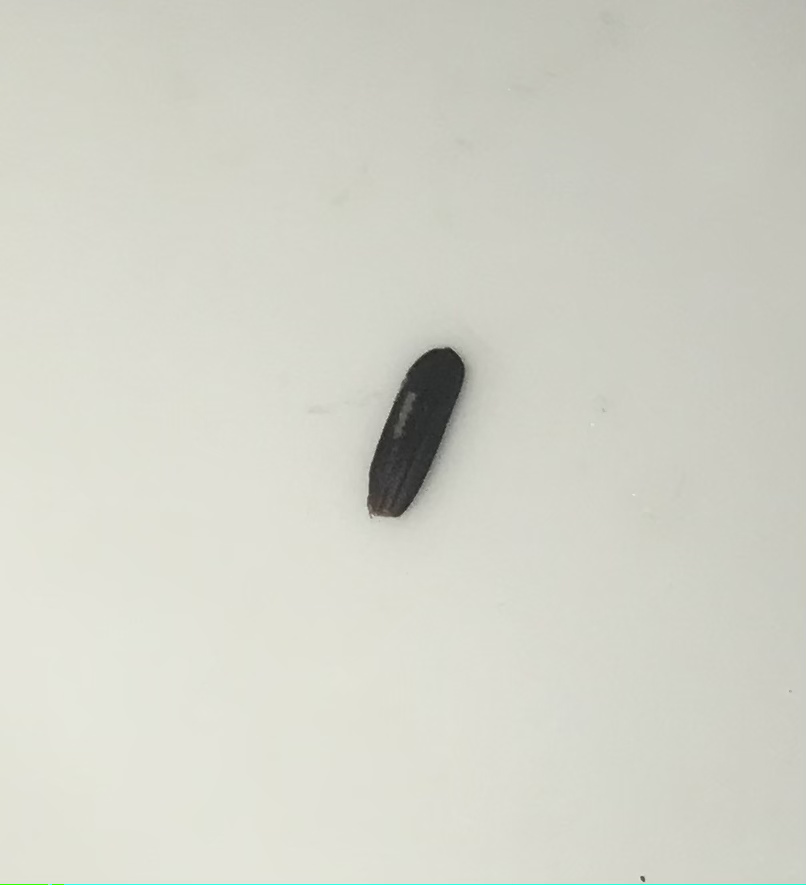Gao Nep Cam: (376, 333, 475, 570)
